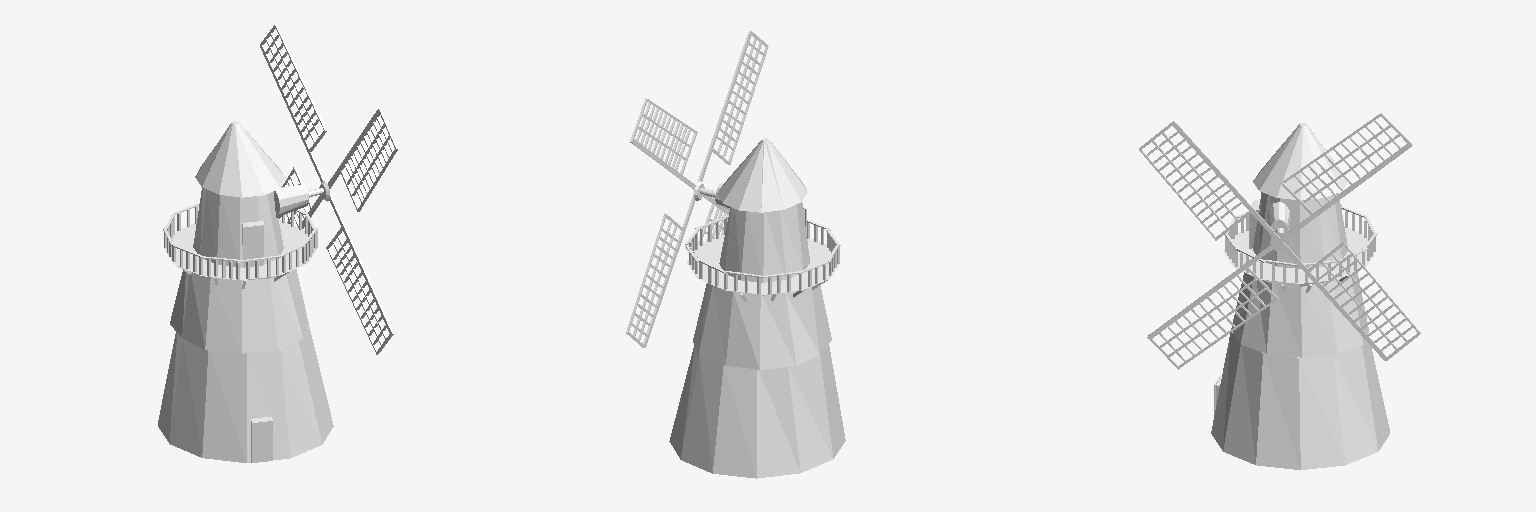
File: windmill02.obj
3 renders of one model, left to right at view 1: azimuth 30°, elevation 25°; view 2: azimuth 150°, elevation 25°; view 3: azimuth 270°, elevation 25°, orthographic.
Parts seen in each view (by area): view 1: Model_85, Model_80, Model_11, Model_79, Model_1, Model_164, Model_75, Model_69, Model_81, Model_72; view 2: Model_85, Model_80, Model_11, Model_79, Model_1, Model_72; view 3: Model_85, Model_80, Model_11, Model_79, Model_1, Model_164, Model_72, Model_69.
Part boxes in pixels (bbox=[...]): Model_85: bbox=[158, 326, 333, 462]; Model_80: bbox=[170, 269, 308, 353]; Model_11: bbox=[193, 187, 283, 267]; Model_79: bbox=[195, 121, 285, 197]; Model_1: bbox=[164, 220, 316, 279]; Model_164: bbox=[260, 45, 392, 332]; Model_75: bbox=[251, 420, 272, 462]; Model_69: bbox=[274, 184, 308, 217]; Model_81: bbox=[243, 225, 263, 267]; Model_72: bbox=[298, 110, 379, 228]; Model_85: bbox=[669, 344, 845, 478]; Model_80: bbox=[693, 283, 831, 369]; Model_11: bbox=[719, 202, 809, 282]; Model_79: bbox=[717, 138, 807, 212]; Model_1: bbox=[686, 235, 838, 295]; Model_72: bbox=[643, 32, 751, 345]; Model_85: bbox=[1211, 332, 1389, 469]; Model_80: bbox=[1231, 272, 1368, 357]; Model_11: bbox=[1253, 192, 1347, 268]; Model_79: bbox=[1253, 123, 1347, 199]; Model_1: bbox=[1223, 226, 1374, 286]; Model_164: bbox=[1149, 144, 1410, 338]; Model_72: bbox=[1173, 123, 1386, 359]; Model_69: bbox=[1267, 202, 1290, 233].
Size of the model in its own units: 1486 by 3314 by 2393.